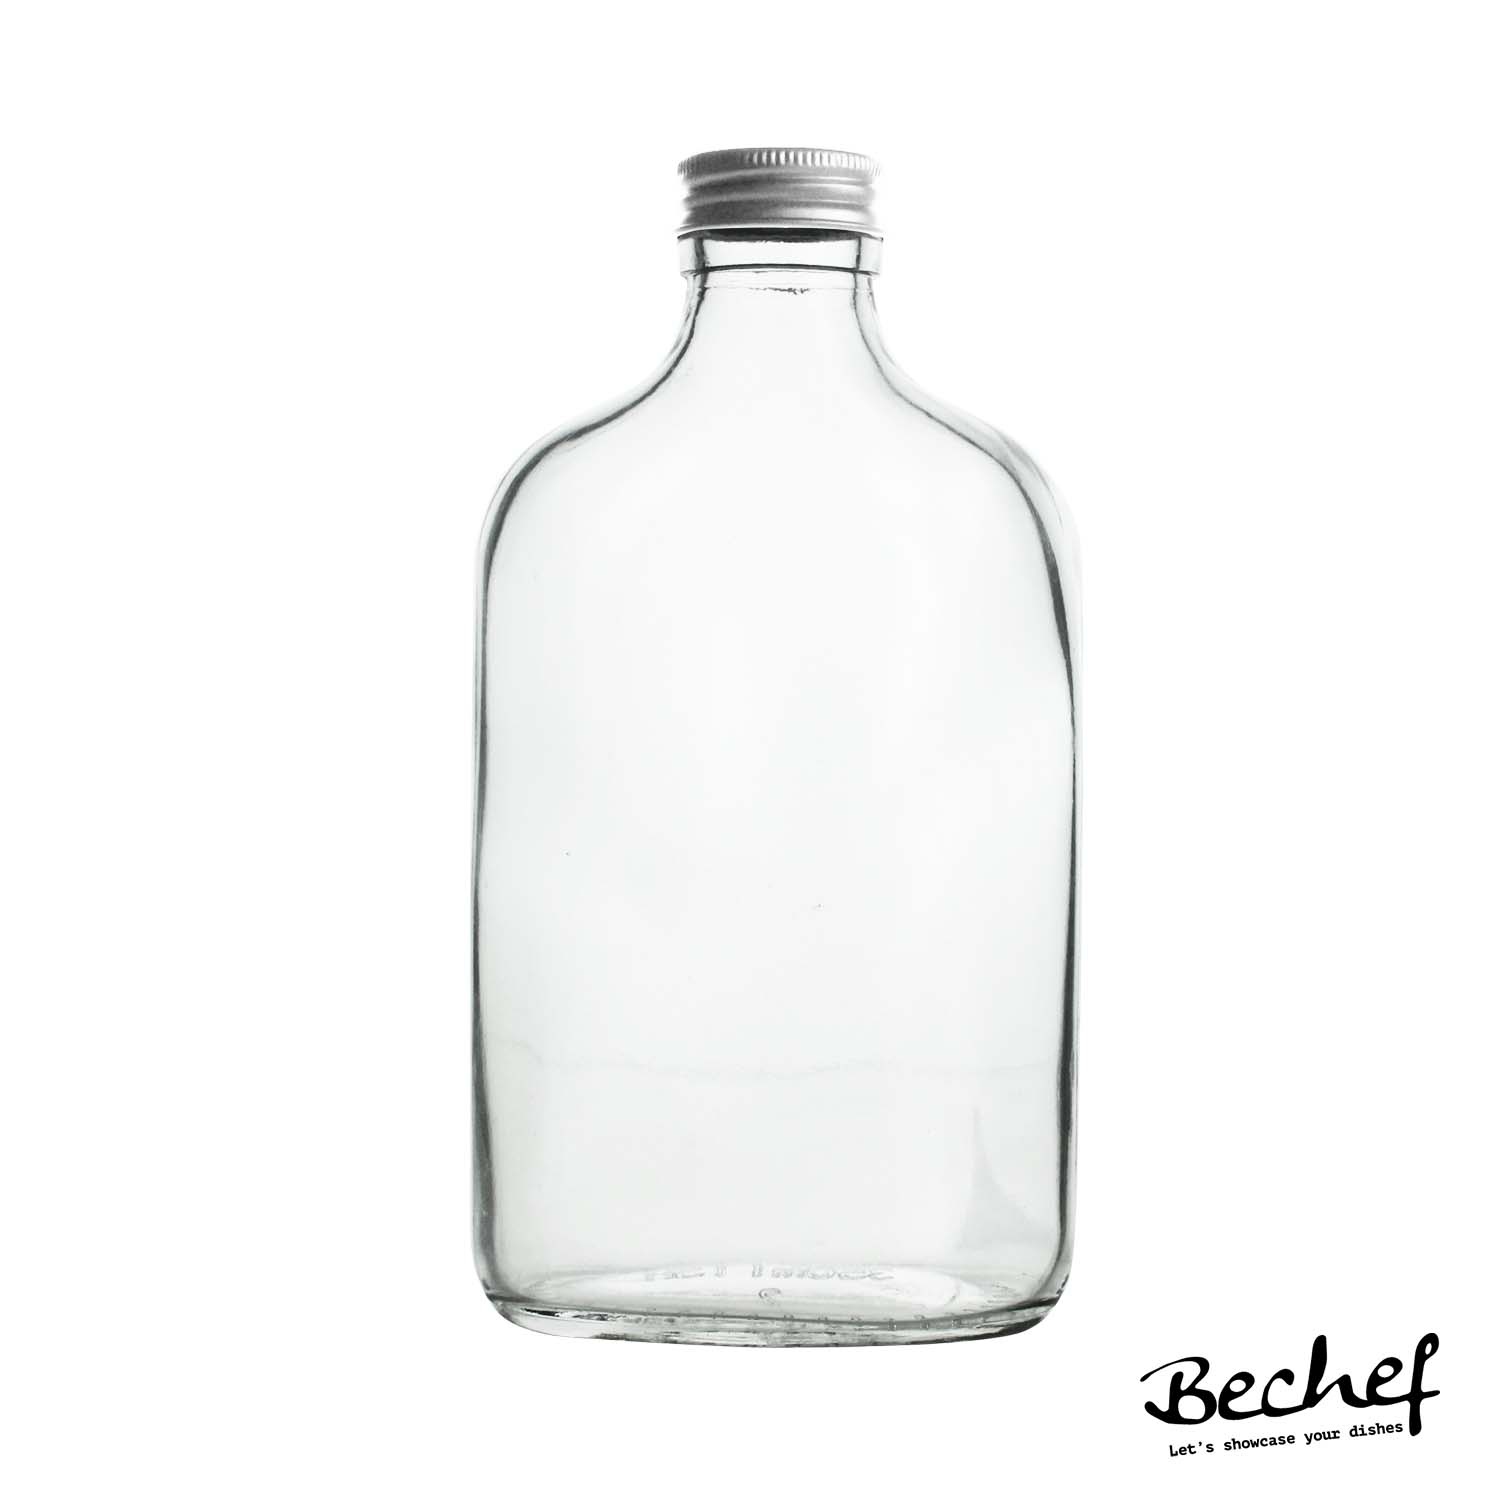glass_bottle: (422, 102, 1121, 1385)
